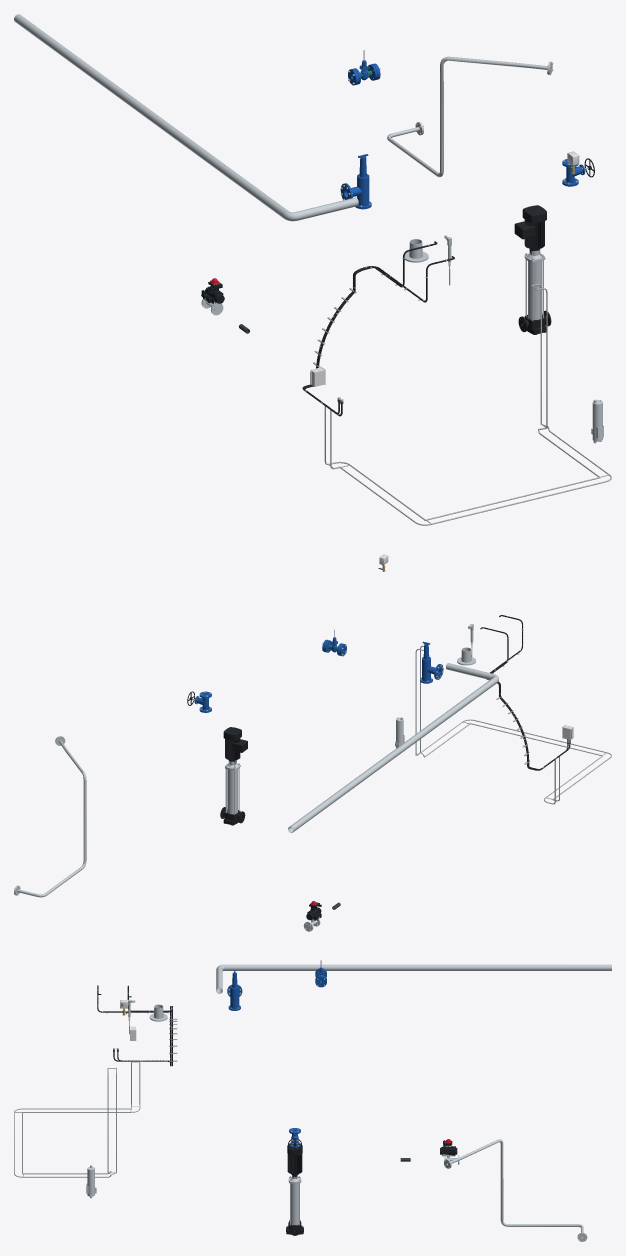
3 views of the same model, one above another, from view 1: azimuth 30°, elevation 25°; view 2: azimuth 150°, elevation 25°; view 3: azimuth 270°, elevation 25° (orthographic). The views are drawn at different scales.
Parts seen in each view (by area): view 1: safety_vent_1 / steel, cables / zinc, trap_gap_to_bdv / steel, pump_2 CAD solid 15, safety_2 / blue, pump_2 CAD solid 2; view 2: safety_vent_1 / steel, cables / zinc, trap_gap_to_bdv / steel, pump_2 CAD solid 15; view 3: safety_vent_1 / steel, cables / zinc, trap_gap_to_bdv / steel, pump_2 CAD solid 15, wiring_low_level_1 / black, safety_2 / blue.
Boxes of the visible parts, x1,y1,x2,y2 form: safety_vent_1 / steel: (14,14,358,221); cables / zinc: (324,284,611,525); trap_gap_to_bdv / steel: (387,56,553,177); pump_2 CAD solid 15: (514,205,546,249); safety_2 / blue: (340,154,371,209); pump_2 CAD solid 2: (528,261,541,319); safety_vent_1 / steel: (288,663,498,832); cables / zinc: (415,645,611,804); trap_gap_to_bdv / steel: (14,736,86,897); pump_2 CAD solid 15: (223,727,247,760); safety_vent_1 / steel: (216,964,611,993); cables / zinc: (14,1062,140,1177); trap_gap_to_bdv / steel: (444,1139,587,1241); pump_2 CAD solid 15: (287,1144,302,1174); wiring_low_level_1 / black: (97,985,171,1066); safety_2 / blue: (227,970,242,1010).
Bounding box in the file's own units: 4.54 × 2.94 × 7.07.
